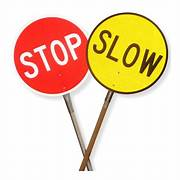stop: (15, 16, 89, 93)
